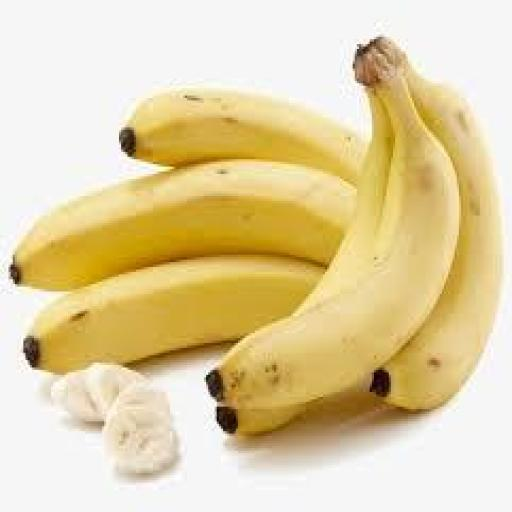banana: (207, 42, 458, 409), (372, 64, 501, 409), (11, 160, 354, 289), (24, 255, 322, 372), (119, 89, 365, 183)
